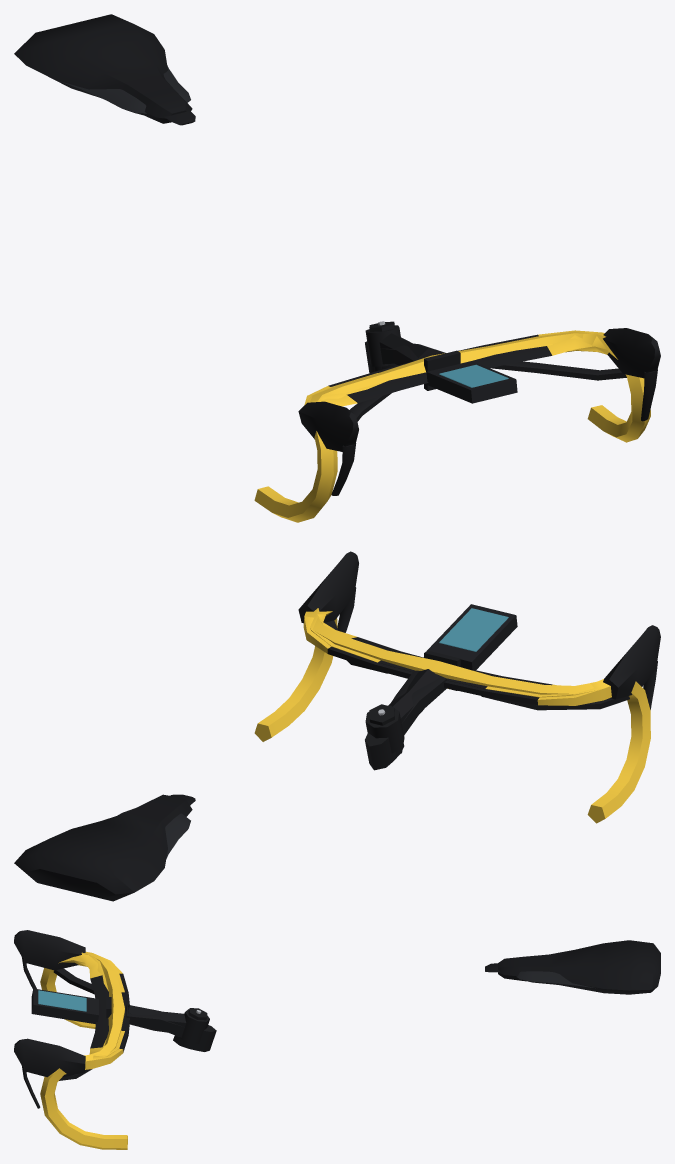
File: parts_lod1.glb
3 views of the same model, one above another, from view 1: azimuth 30°, elevation 25°; view 2: azimuth 150°, elevation 25°; view 3: azimuth 270°, elevation 25° (orthographic). The views are drawn at different scales.
Visible parts, largest first — view 1: cockpit_aero, saddle_comfort, cockpit_wing, cockpit_classic, saddle_3d; view 2: cockpit_aero, saddle_comfort, cockpit_classic, cockpit_wing, saddle_3d; view 3: cockpit_aero, saddle_comfort, cockpit_classic, cockpit_wing, saddle_3d.
Part boxes in pixels (x1,y1,x2,y2): cockpit_aero: [254, 328, 660, 522]; saddle_comfort: [14, 14, 192, 123]; cockpit_wing: [304, 330, 626, 421]; cockpit_classic: [310, 321, 588, 402]; saddle_3d: [58, 65, 190, 116]; cockpit_aero: [254, 551, 660, 823]; saddle_comfort: [14, 794, 192, 901]; cockpit_classic: [256, 617, 602, 822]; cockpit_wing: [303, 611, 629, 710]; saddle_3d: [118, 808, 190, 858]; cockpit_aero: [14, 930, 216, 1149]; saddle_comfort: [498, 940, 660, 994]; cockpit_classic: [92, 955, 209, 1055]; cockpit_wing: [53, 953, 129, 1080]; saddle_3d: [516, 971, 597, 988].
Bounding box in the file's own units: 0.4652 × 0.232 × 1.01.
